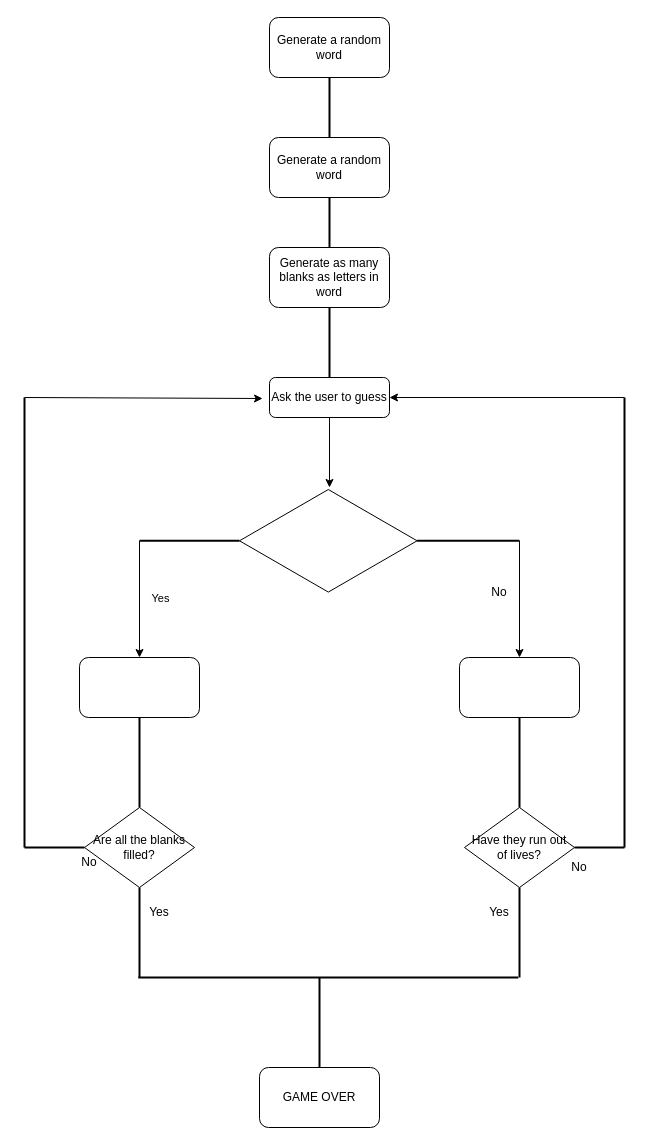
The diagram is 650 pixels wide and 1145 high, and some of its shapes have lost their labels. Each missing label, with the centre of its shape:
Is the guessed letter in the word?: [327,540]
Lose a life: [519,687]
rep,ace the blank with the letter: [139,687]
